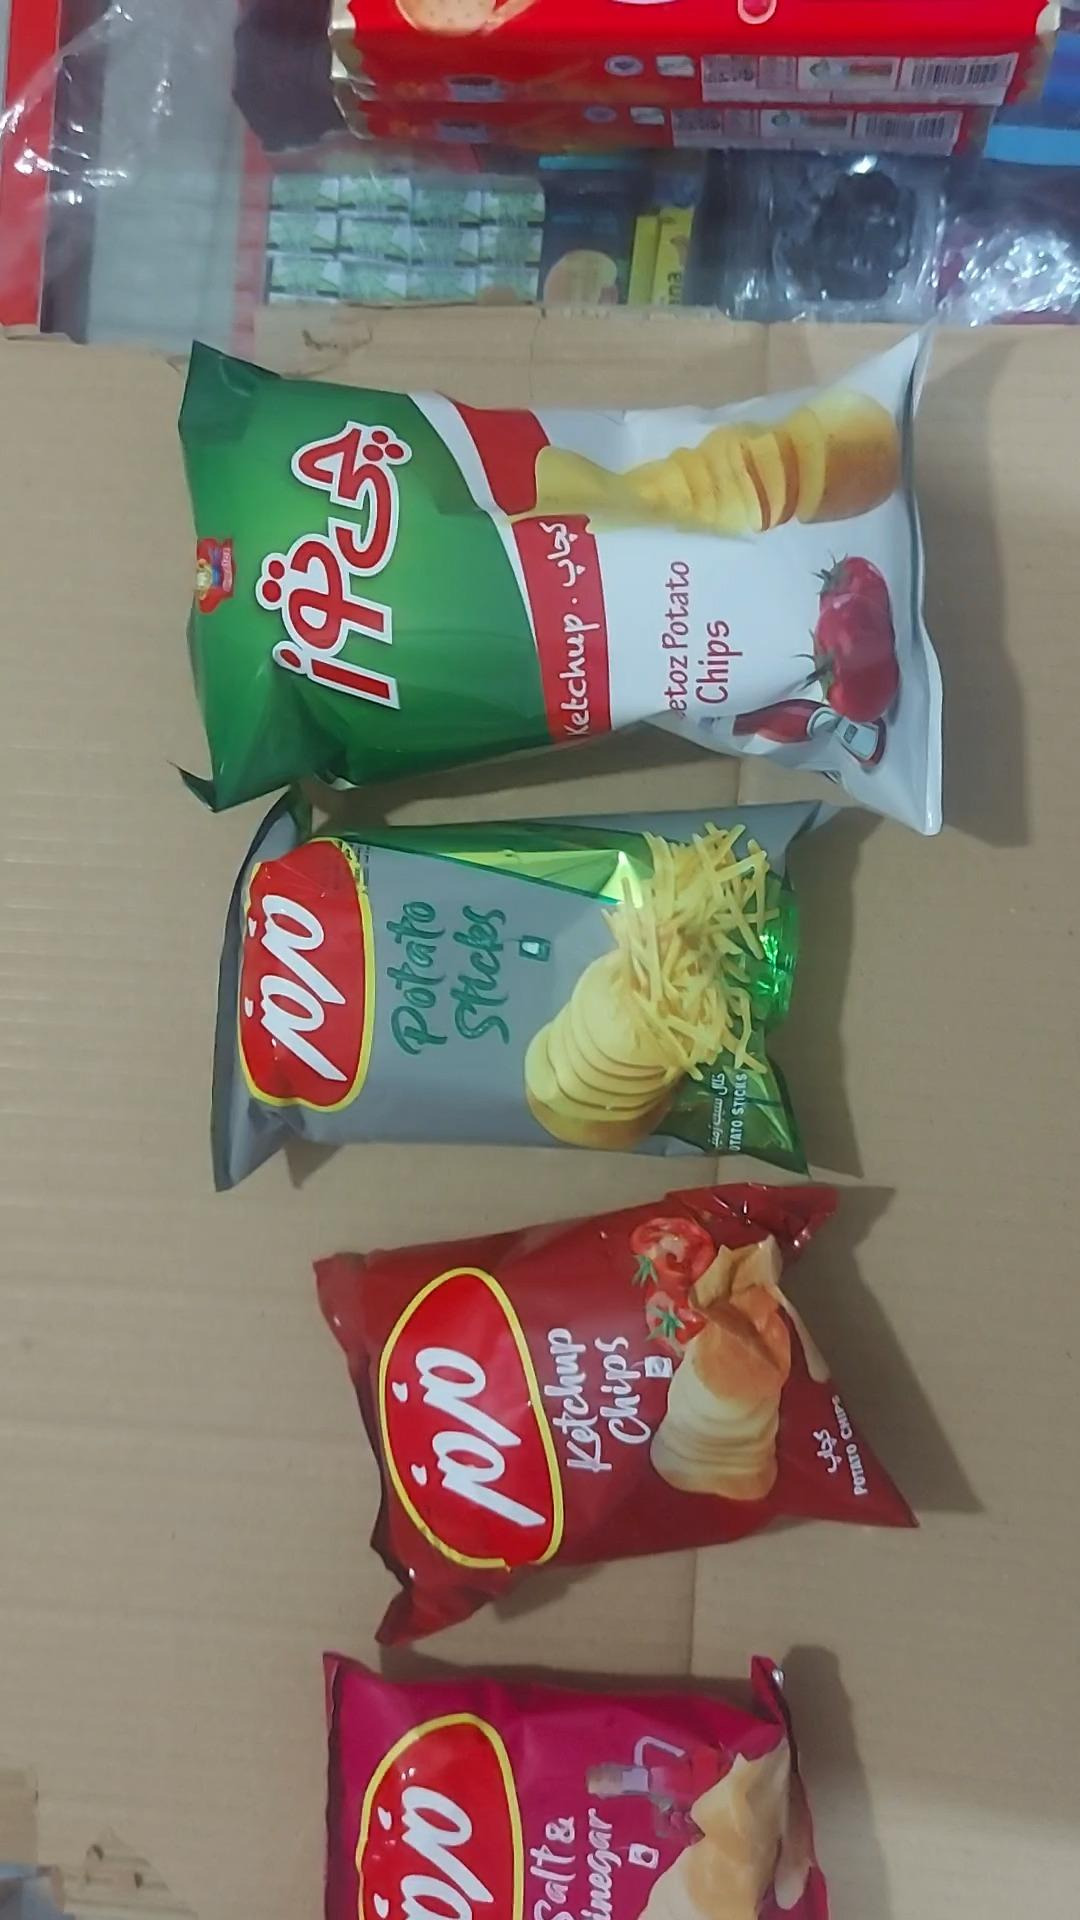Cheetoz ketchup chips: (175, 324, 943, 839)
Maz Maz ketchup chips: (313, 1183, 920, 1648)
Maz Maz potato sticks: (211, 785, 823, 1192)
Maz Maz vinegar chips: (320, 1650, 825, 1919)
